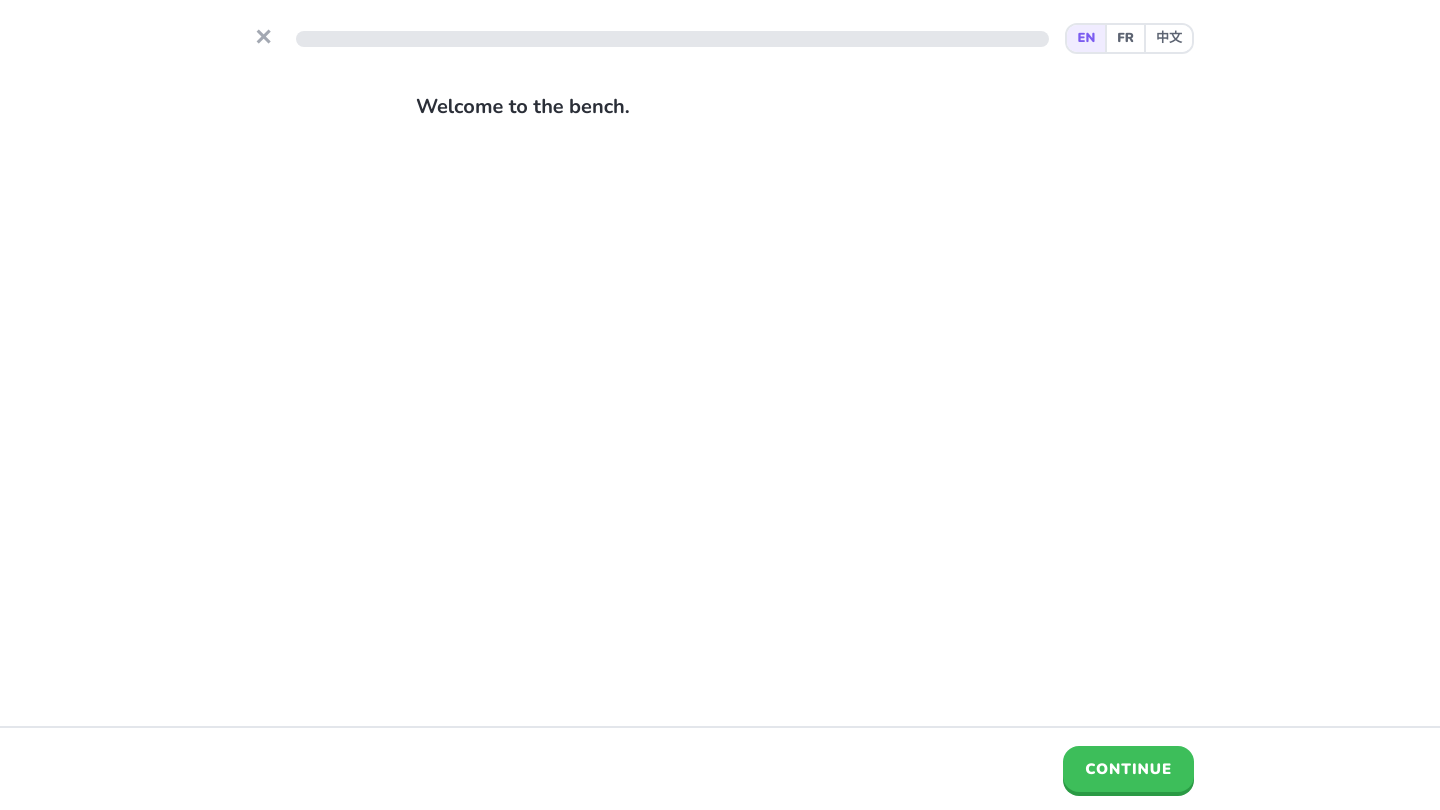
it: lab: Back on the sim returns to the last intro card, and Back again to the first
This screenshot has width=1440, height=810.
Click the button "Continue" at (1129, 769), box [1063,746,1194,792]
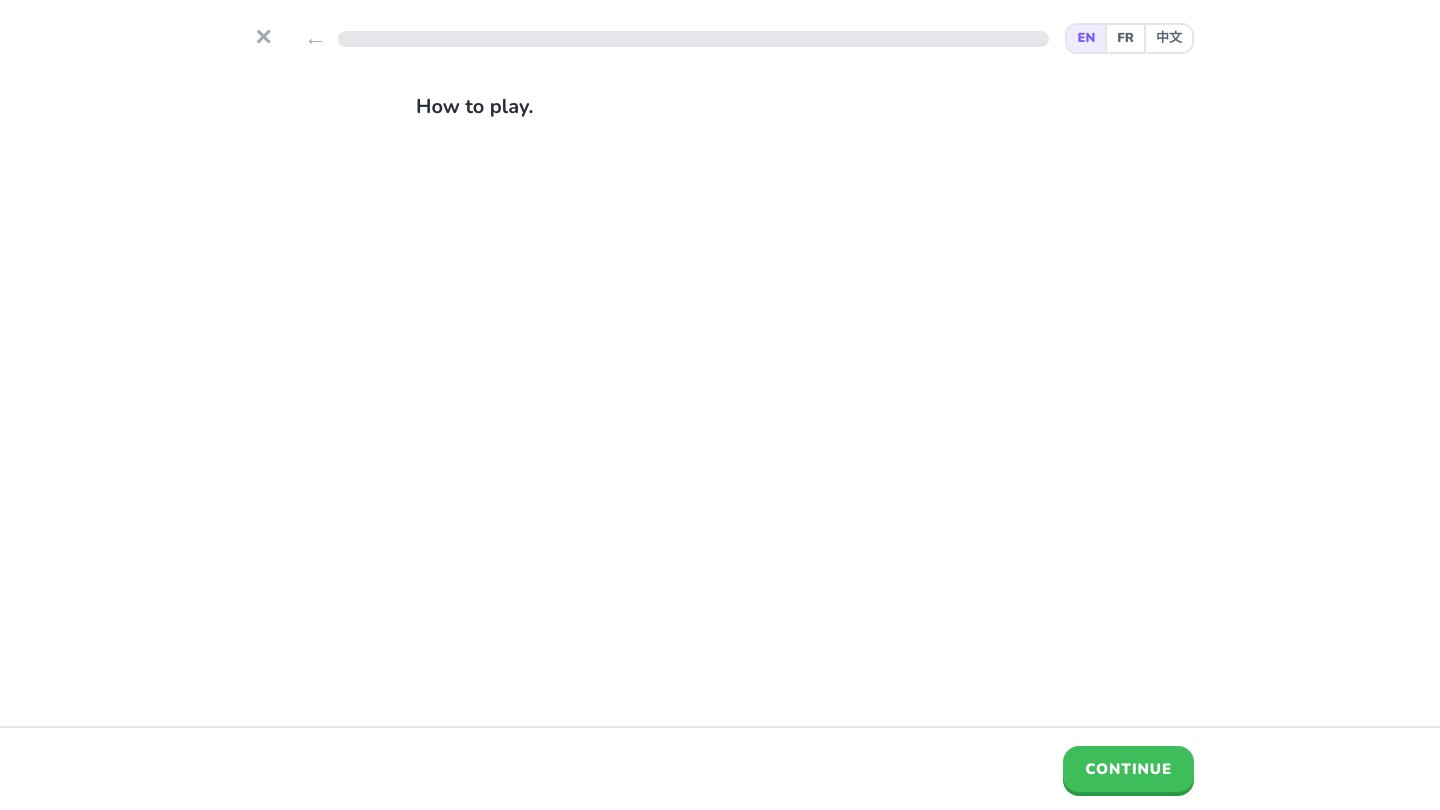
Click the button "Continue" at (1129, 769), box [1063,746,1194,792]
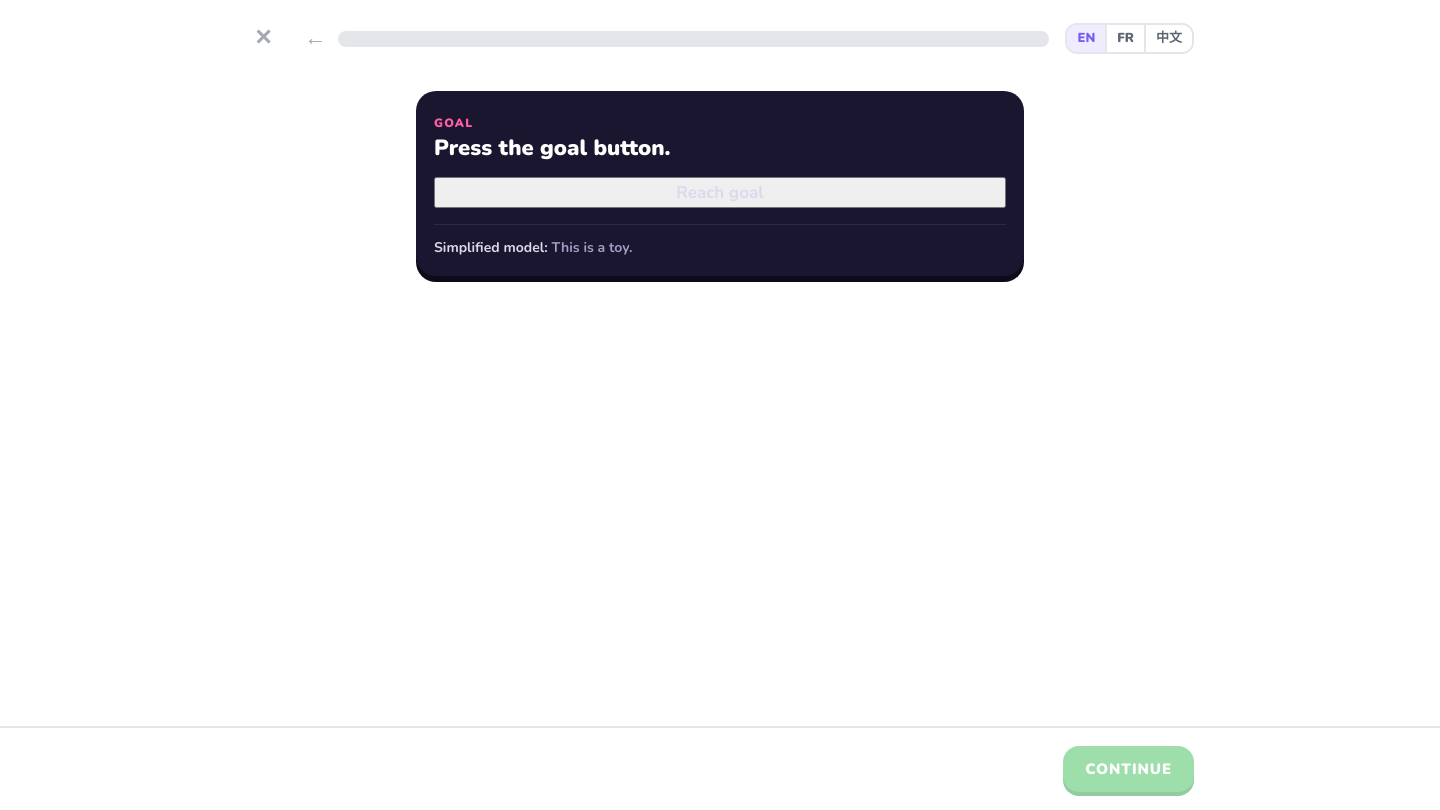
Click the button named "Go back" at (315, 38), box [296,18,334,59]
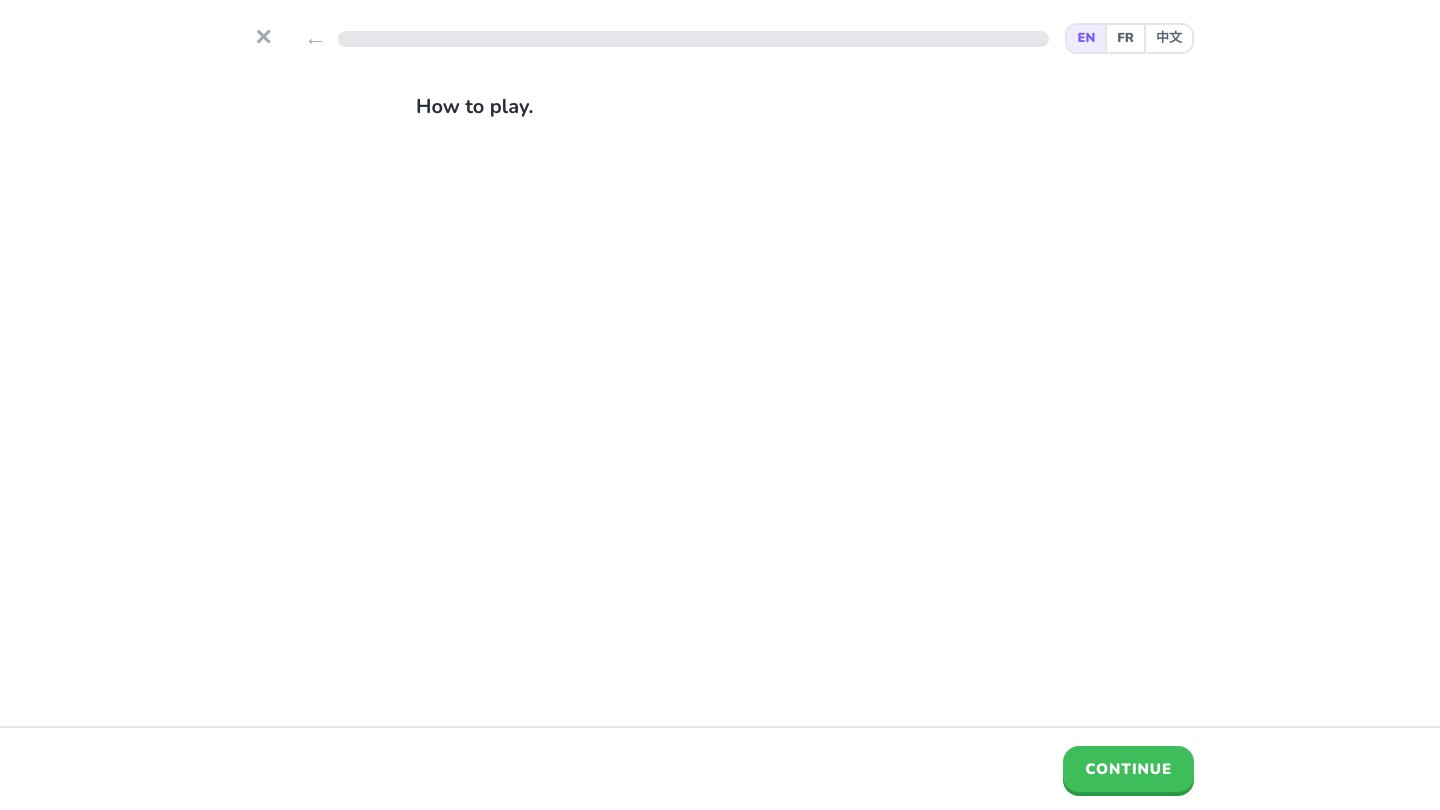
Check: the text "How to play." is shown, box [416,93,534,120]
Click the button named "Go back" at (315, 38), box [296,18,334,59]
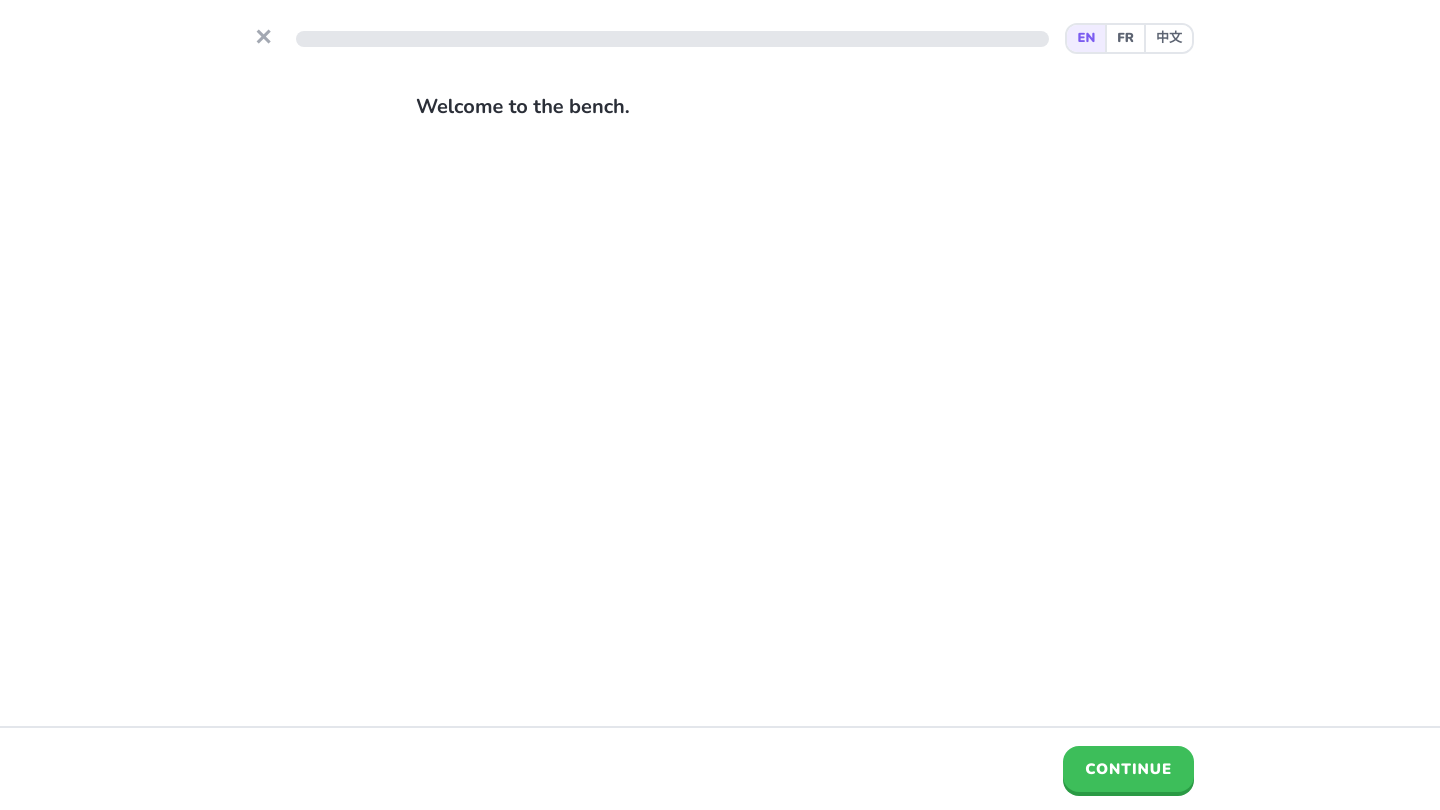
Check: the text "Welcome to the bench." is shown, box [416,93,630,120]
Click the button "Continue" at (1129, 769), box [1063,746,1194,792]
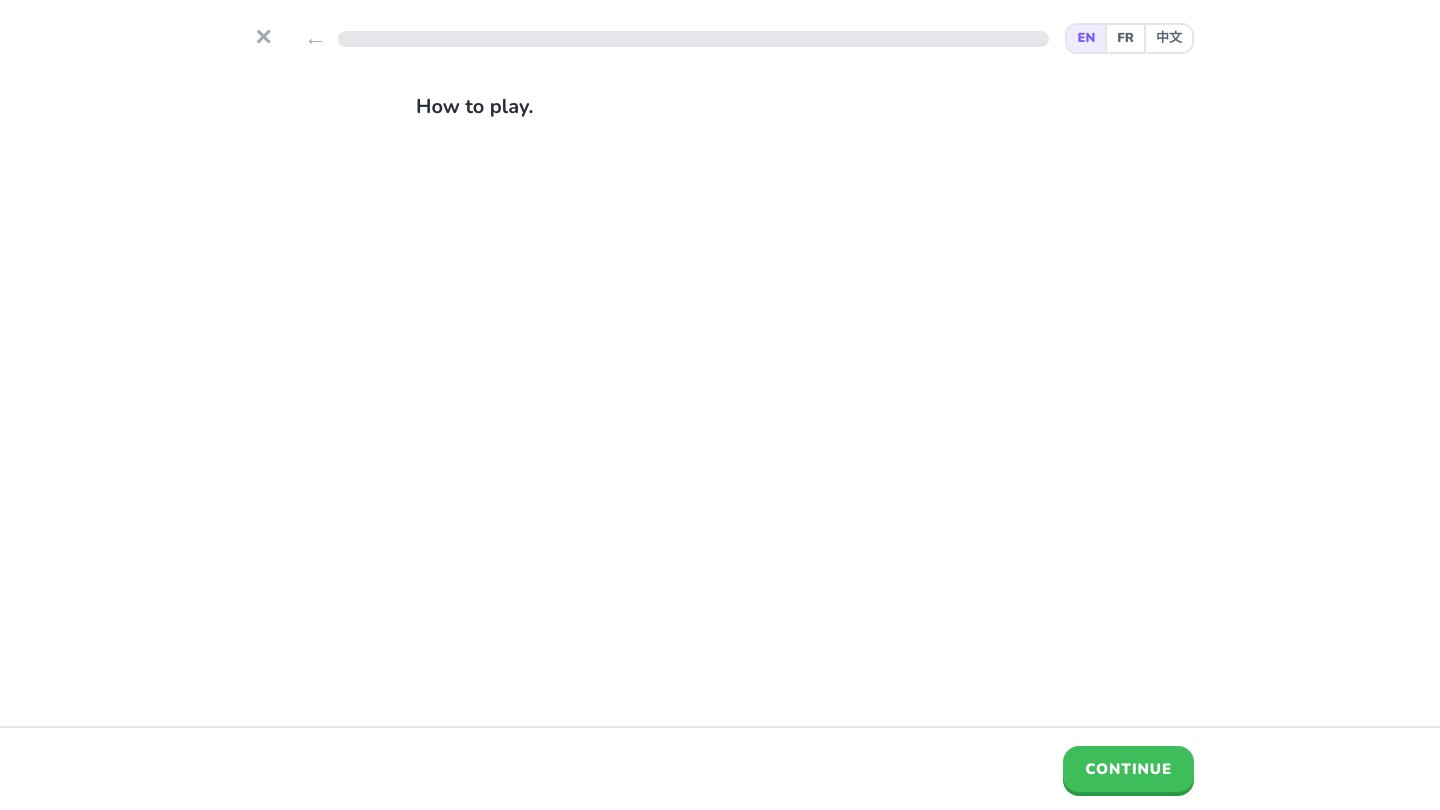
Click the button "Continue" at (1129, 769), box [1063,746,1194,792]
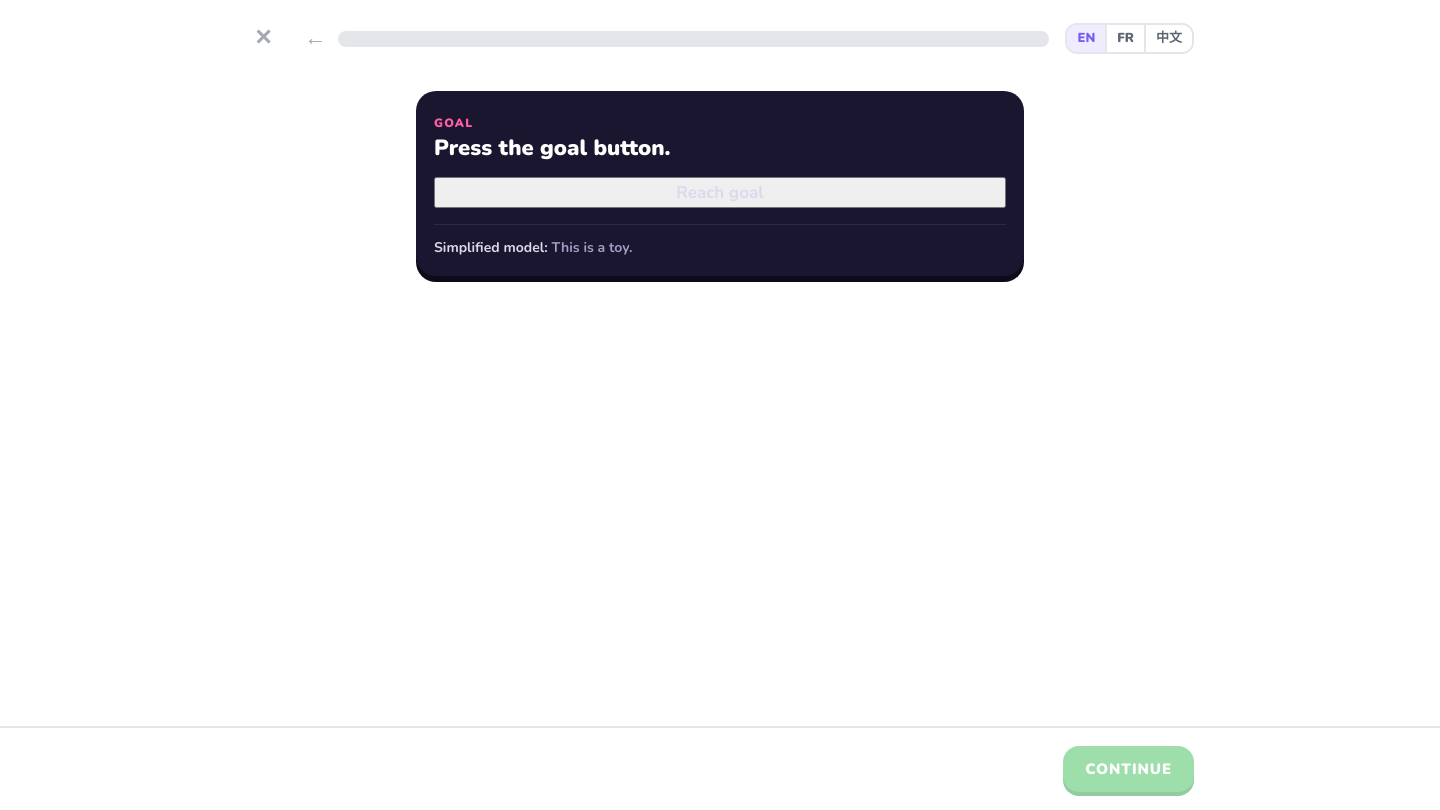
Check: the heading "Press the goal button." is shown, box [434,132,670,162]
